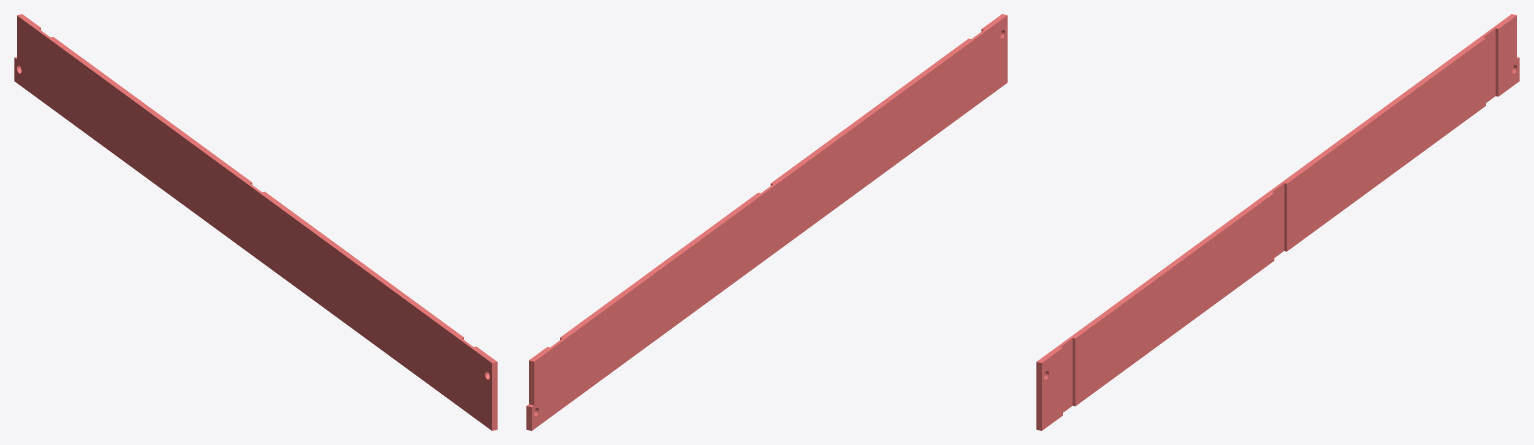
The model's file is BATTERY MODULE V1__SPINE__SPINE L.glb.
3 renders of one model, left to right at view 1: azimuth 30°, elevation 25°; view 2: azimuth 150°, elevation 25°; view 3: azimuth 330°, elevation 25°, orthographic.
Visible parts, largest first — view 1: SPINE L; view 2: SPINE L; view 3: SPINE L.
Part boxes in pixels (box(x1,y1,x2,y2)): SPINE L: box(14, 14, 497, 430); SPINE L: box(526, 14, 1007, 430); SPINE L: box(1036, 14, 1519, 430).
Bounding box in the file's own units: 0.00636 × 0.0762 × 0.9738.
